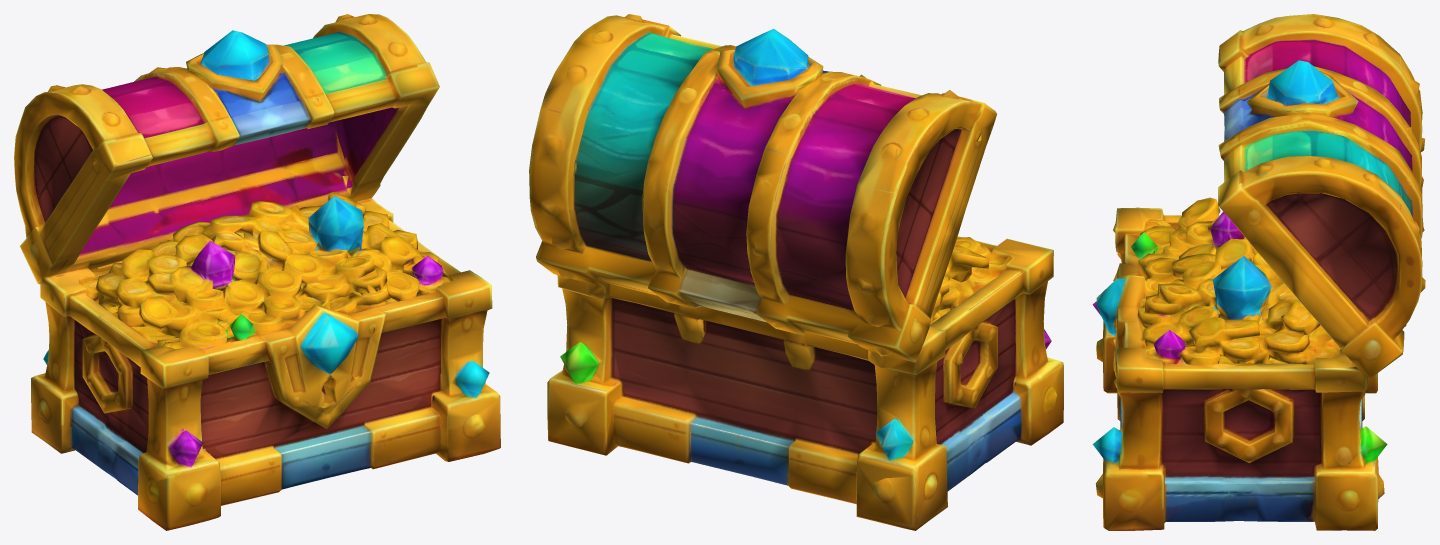
Rendered from treasure.glb.
3 views of the same model, side by side, from view 1: azimuth 30°, elevation 25°; view 2: azimuth 150°, elevation 25°; view 3: azimuth 270°, elevation 25° (orthographic). The views are drawn at different scales.
Visible parts, largest first — view 1: Mesh1.0; view 2: Mesh1.0; view 3: Mesh1.0.
Boxes of the visible parts, <box> form: Mesh1.0: <box>14,14,500,530</box>; Mesh1.0: <box>529,14,1063,530</box>; Mesh1.0: <box>1092,14,1425,530</box>.
Bounding box in the file's own units: 1.77 × 1.91 × 1.49.
1 material, 1 textured.
